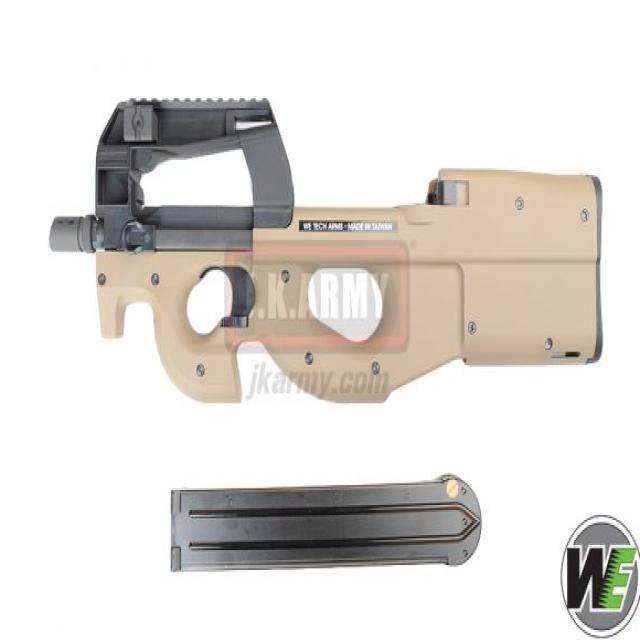Gun: (45, 56, 617, 444)
